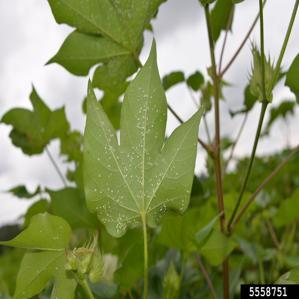Silverleaf whitefly: (61, 61, 229, 242)
